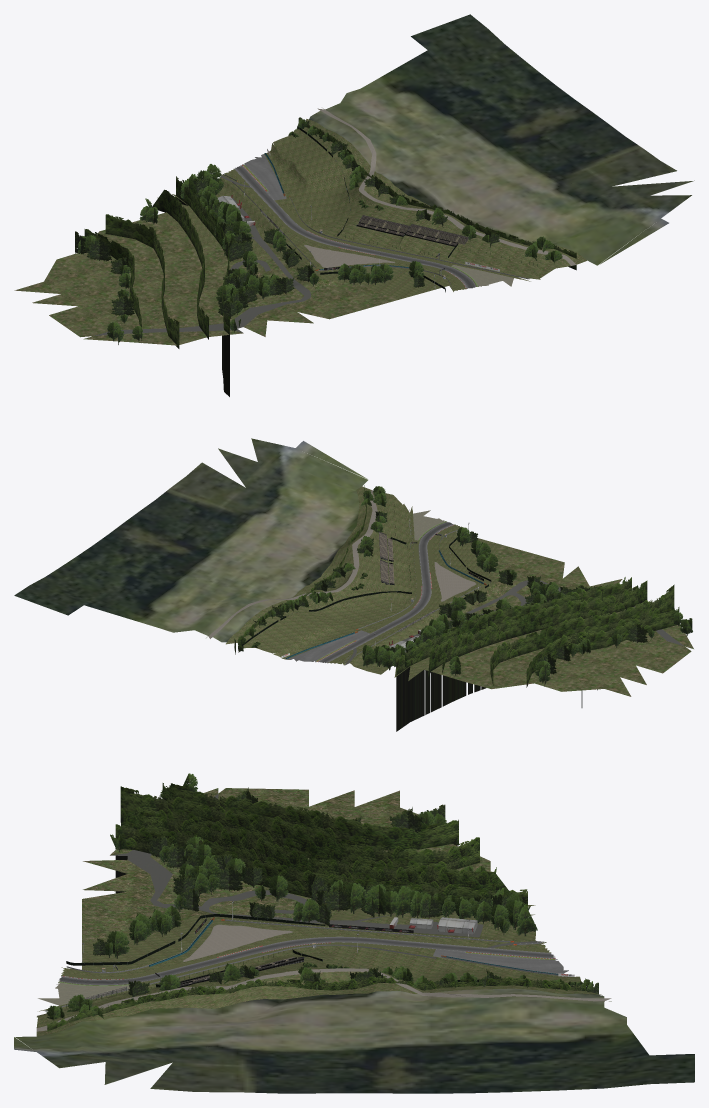
3 views of the same model, one above another, from view 1: azimuth 30°, elevation 25°; view 2: azimuth 150°, elevation 25°; view 3: azimuth 270°, elevation 25° (orthographic). The views are drawn at different scales.
Parts seen in each view (by area): view 1: tile_t12; view 2: tile_t12; view 3: tile_t12.
Part boxes in pixels (box(x1,y1,x2,y2)): tile_t12: box(14, 14, 694, 396); tile_t12: box(14, 438, 693, 731); tile_t12: box(14, 773, 694, 1093).
Bounding box in the file's own units: 608 × 117 × 480.
Materials: 38 (38 with a texture image).
